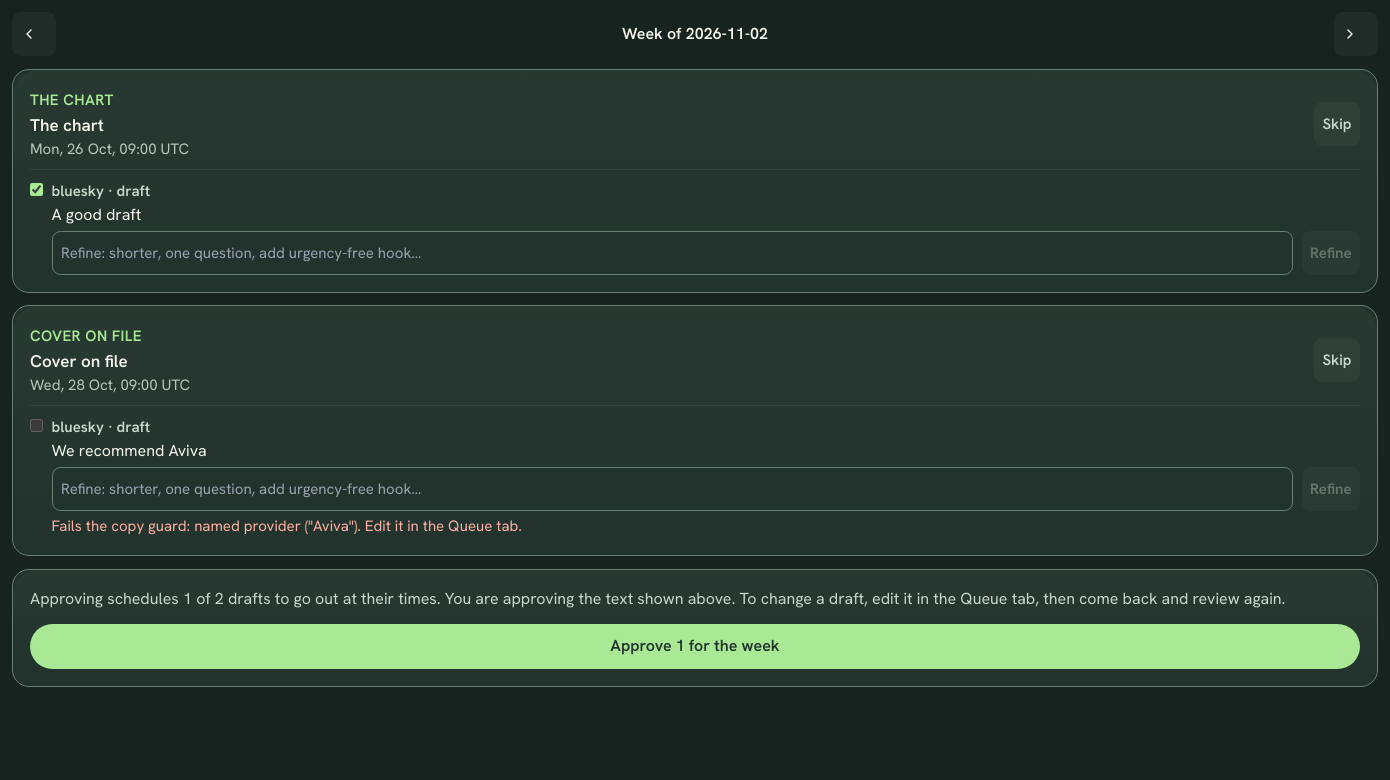
Scenario: PlanPanel › lets the reviewer untick a draft before approving
Expected: the text "A good draft" is shown, [52,203,141,224]
Step 1. Click the checkbox named "Approve the bluesky draft for The chart" → (36, 189), box [30,182,43,196]
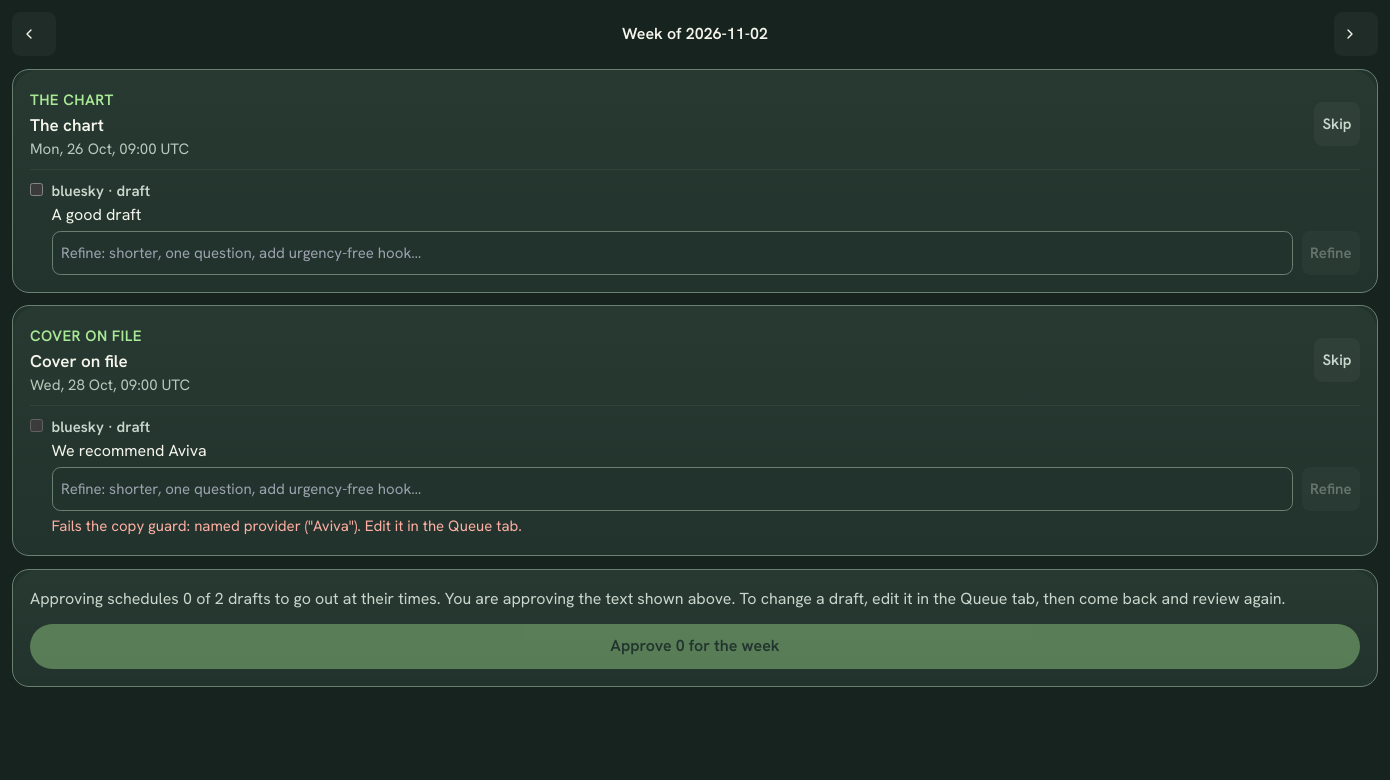
Expected: the button "Approve 0 for the week" is disabled, [30,623,1360,669]
